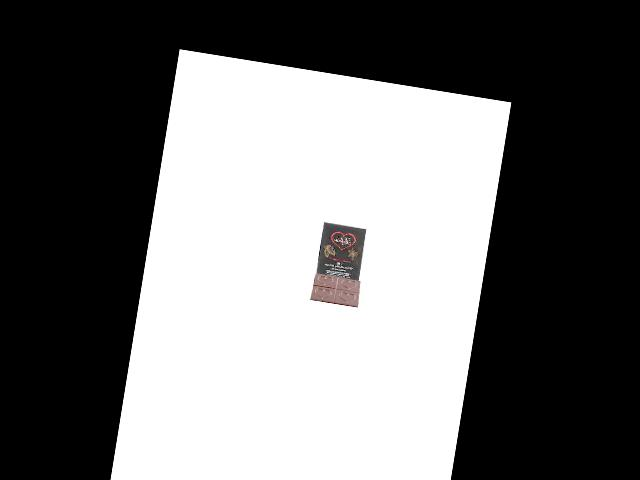chocolate: (308, 221, 374, 311)
